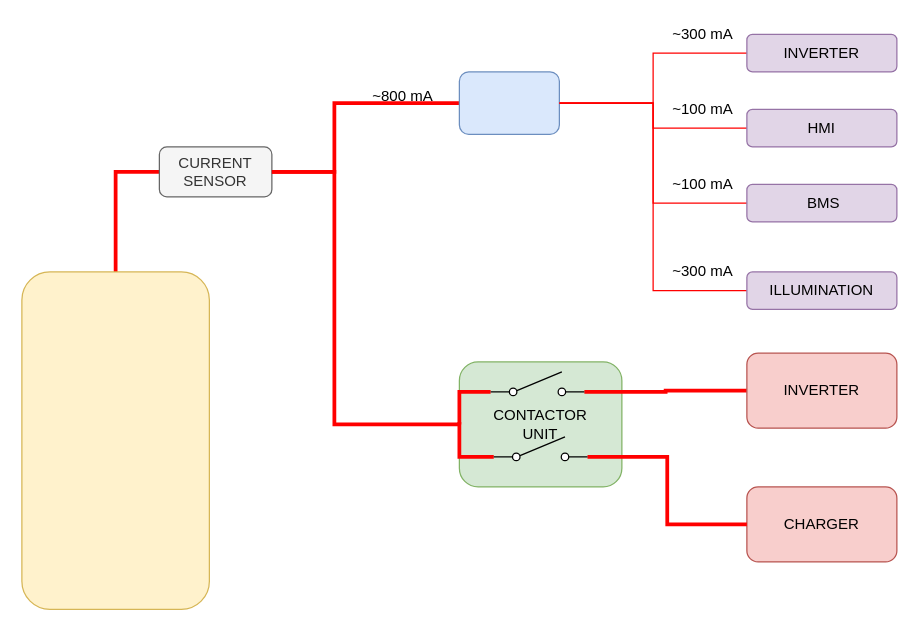
This 919x631 diagram has some shape labels left out. The centre of each missing label's shape, as x and y in pixels:
"BATTERY" goes at point 115,440.
"DC/DC 48/12" goes at point 508,102.
